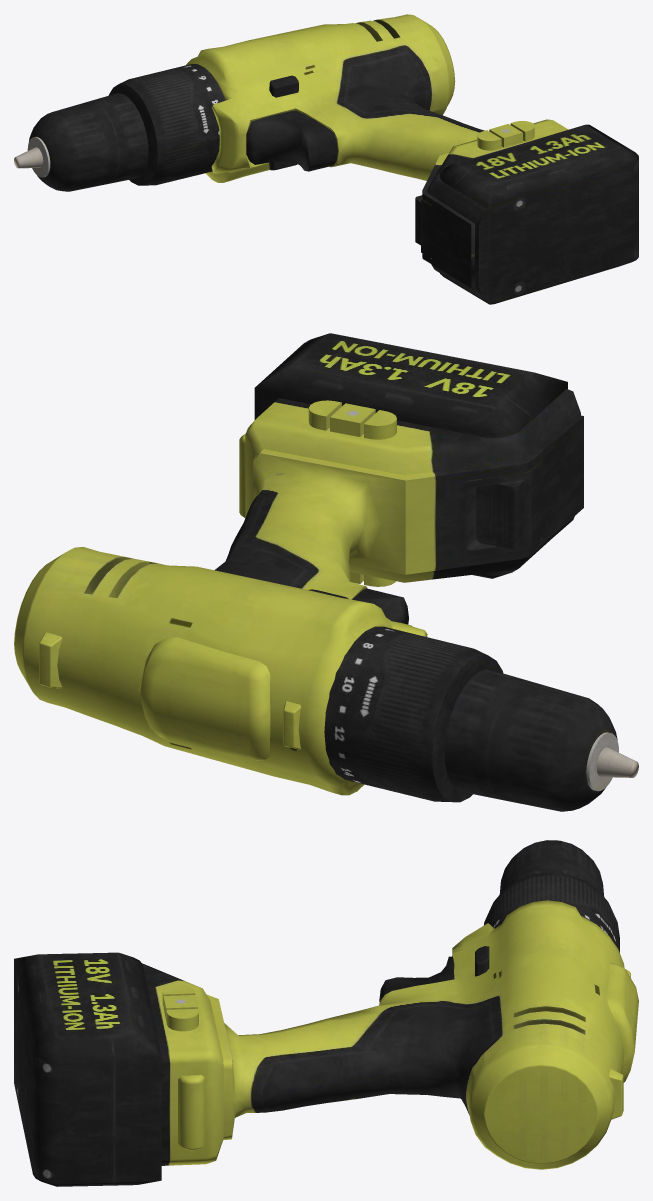
File: tool_power_drill.glb
3 renders of one model, top to bottom at view 1: azimuth 30°, elevation 25°; view 2: azimuth 150°, elevation 25°; view 3: azimuth 270°, elevation 25°, orthographic. The views are drawn at different scales.
Visible parts, largest first — view 1: Drill_01; view 2: Drill_01; view 3: Drill_01.
Part boxes in pixels (left/top/right/bottom): Drill_01: left=14, top=14, right=638, bottom=304; Drill_01: left=14, top=333, right=638, bottom=811; Drill_01: left=14, top=840, right=638, bottom=1186.
Size of the model in its own units: 0.1829 by 0.0524 by 0.1851.
1 material, 1 textured.
